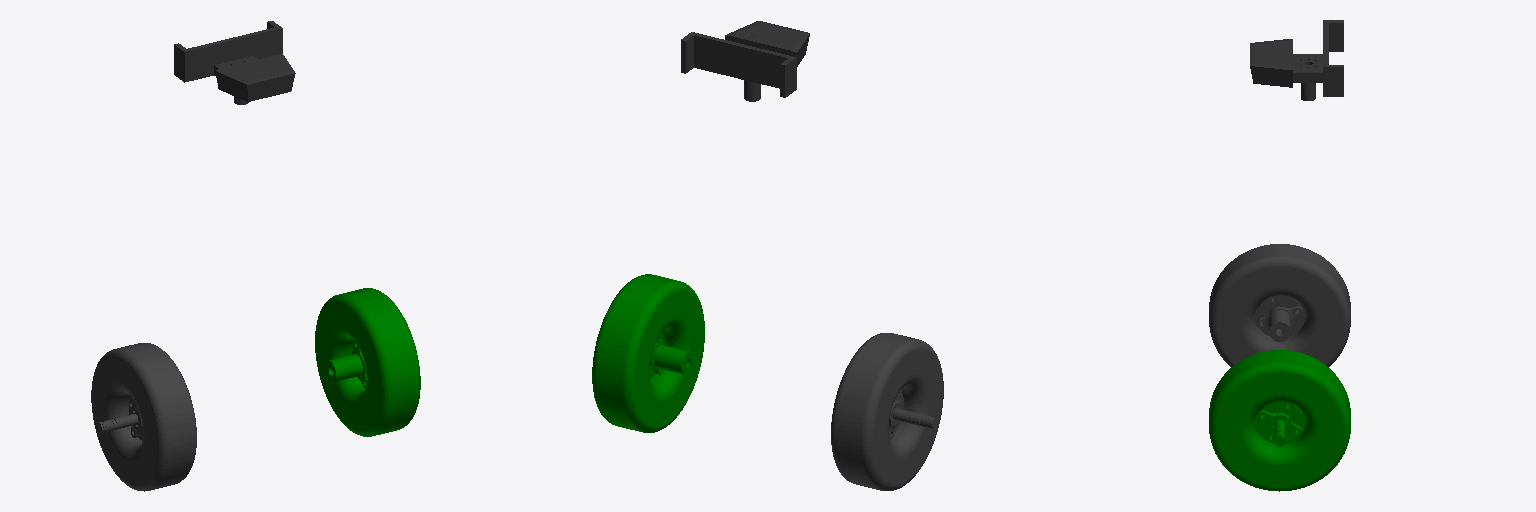
robot.urdf — Robot_1:
<?xml version="1.0" encoding="utf-8"?>
<!-- This URDF was automatically created by SolidWorks to URDF Exporter! Originally created by [author] ([email redacted]) 
     Commit Version: 1.5.1-0-g916b5db  Build Version: 1.5.7152.31018
     For more information, please see http://wiki.ros.org/sw_urdf_exporter -->
<robot
  name="Robot_1">
  <link
    name="robot_body">
    <inertial>
      <origin
        xyz="-0.018786 -0.1 0.32663"
        rpy="0 0 0" />
      <mass
        value="39.102" />
      <inertia
        ixx="0.68635"
        ixy="-0.00059075"
        ixz="0.00020553"
        iyy="0.27409"
        iyz="0.016244"
        izz="0.59039" />
    </inertial>
    <visual>
      <origin
        xyz="0 0 0"
        rpy="0 0 0" />
      <geometry>
        <mesh
          filename="package://Robot_1/meshes/robot_body.STL" />
      </geometry>
      <material
        name="">
        <color
          rgba="0.75294 0.75294 0.75294 1" />
      </material>
    </visual>
    <collision>
      <origin
        xyz="0 0 0"
        rpy="0 0 0" />
      <geometry>
        <mesh
          filename="package://Robot_1/meshes/robot_body.STL" />
      </geometry>
    </collision>
  </link>
  <link
    name="wheel_right">
    <inertial>
      <origin
        xyz="1.767E-05 5.3418E-11 -5.3418E-11"
        rpy="0 0 0" />
      <mass
        value="5.0205" />
      <inertia
        ixx="0.04474"
        ixy="1.4221E-12"
        ixz="1.4221E-12"
        iyy="0.024829"
        iyz="-1.2428E-07"
        izz="0.024829" />
    </inertial>
    <visual>
      <origin
        xyz="0 0 0"
        rpy="0 0 0" />
      <geometry>
        <mesh
          filename="package://Robot_1/meshes/wheel_right.STL" />
      </geometry>
      <material
        name="">
        <color
          rgba="0.29804 0.29804 0.29804 1" />
      </material>
    </visual>
    <collision>
      <origin
        xyz="0 0 0"
        rpy="0 0 0" />
      <geometry>
        <mesh
          filename="package://Robot_1/meshes/wheel_right.STL" />
      </geometry>
    </collision>
  </link>
  <joint
    name="wheel_right"
    type="continuous">
    <origin
      xyz="-0.23 -0.42691 0.0733"
      rpy="2.7865 0 3.1416" />
    <parent
      link="robot_body" />
    <child
      link="wheel_right" />
    <axis
      xyz="0 0 0" />
  </joint>
  <link
    name="wheel_left">
    <inertial>
      <origin
        xyz="1.8597E-11 -0.049018 -7.3215E-11"
        rpy="0 0 0" />
      <mass
        value="5.0205" />
      <inertia
        ixx="0.024829"
        ixy="-1.9493E-12"
        ixz="-5.9306E-08"
        iyy="0.04474"
        iyz="-4.9511E-13"
        izz="0.024829" />
    </inertial>
    <visual>
      <origin
        xyz="0 0 0"
        rpy="0 0 0" />
      <geometry>
        <mesh
          filename="package://Robot_1/meshes/wheel_left.STL" />
      </geometry>
      <material
        name="">
        <color
          rgba="0 0.50196 0 1" />
      </material>
    </visual>
    <collision>
      <origin
        xyz="0 0 0"
        rpy="0 0 0" />
      <geometry>
        <mesh
          filename="package://Robot_1/meshes/wheel_left.STL" />
      </geometry>
    </collision>
  </link>
  <joint
    name="wheel_left"
    type="continuous">
    <origin
      xyz="0.181 -0.42691 0.0733"
      rpy="0 1.4923 1.5708" />
    <parent
      link="robot_body" />
    <child
      link="wheel_left" />
    <axis
      xyz="0 0 0" />
  </joint>
  <link
    name="elevator">
    <inertial>
      <origin
        xyz="-4.0447E-16 0.019617 -0.080809"
        rpy="0 0 0" />
      <mass
        value="0.61002" />
      <inertia
        ixx="0.0003966"
        ixy="-5.14E-20"
        ixz="9.6067E-21"
        iyy="0.0014211"
        iyz="3.5591E-05"
        izz="0.0012696" />
    </inertial>
    <visual>
      <origin
        xyz="0 0 0"
        rpy="0 0 0" />
      <geometry>
        <mesh
          filename="package://Robot_1/meshes/elevator.STL" />
      </geometry>
      <material
        name="">
        <color
          rgba="0.25098 0.25098 0.25098 1" />
      </material>
    </visual>
    <collision>
      <origin
        xyz="0 0 0"
        rpy="0 0 0" />
      <geometry>
        <mesh
          filename="package://Robot_1/meshes/elevator.STL" />
      </geometry>
    </collision>
  </link>
  <joint
    name="elevator"
    type="prismatic">
    <origin
      xyz="0 -0.4825 0.6682"
      rpy="1.5708 0 0" />
    <parent
      link="robot_body" />
    <child
      link="elevator" />
    <axis
      xyz="0 0 0" />
    <limit
      lower="0"
      upper="0"
      effort="0"
      velocity="0" />
  </joint>
</robot>

--- What the picture shows (computed from the rendered views, not written in the file) ---
3 views of the same robot in one strip: view 1: azimuth 30°, elevation 25°; view 2: azimuth 150°, elevation 25°; view 3: azimuth 270°, elevation 25° (orthographic).
Robot: Robot_1 — 4 links, 3 joints (2 continuous, 1 prismatic); root link robot_body; default pose: all joints at 0.
Links seen in each view (by area): view 1: wheel_left, wheel_right, elevator; view 2: wheel_right, wheel_left, elevator; view 3: wheel_left, wheel_right, elevator.
Boxes of the visible links, bbox=[...] form: wheel_left: bbox=[315, 288, 420, 436]; wheel_right: bbox=[91, 343, 196, 491]; elevator: bbox=[174, 21, 295, 104]; wheel_right: bbox=[831, 333, 943, 490]; wheel_left: bbox=[592, 274, 704, 432]; elevator: bbox=[681, 21, 809, 101]; wheel_left: bbox=[1209, 350, 1350, 491]; wheel_right: bbox=[1209, 244, 1350, 366]; elevator: bbox=[1250, 20, 1343, 100].
Size in the robot's own frame: 0.645 by 0.26 by 0.7849 metres.
3 mesh visuals loaded from 4 distinct referenced files (3 binary STL); not drawn: 1 (reference not matched to a file when rendering).